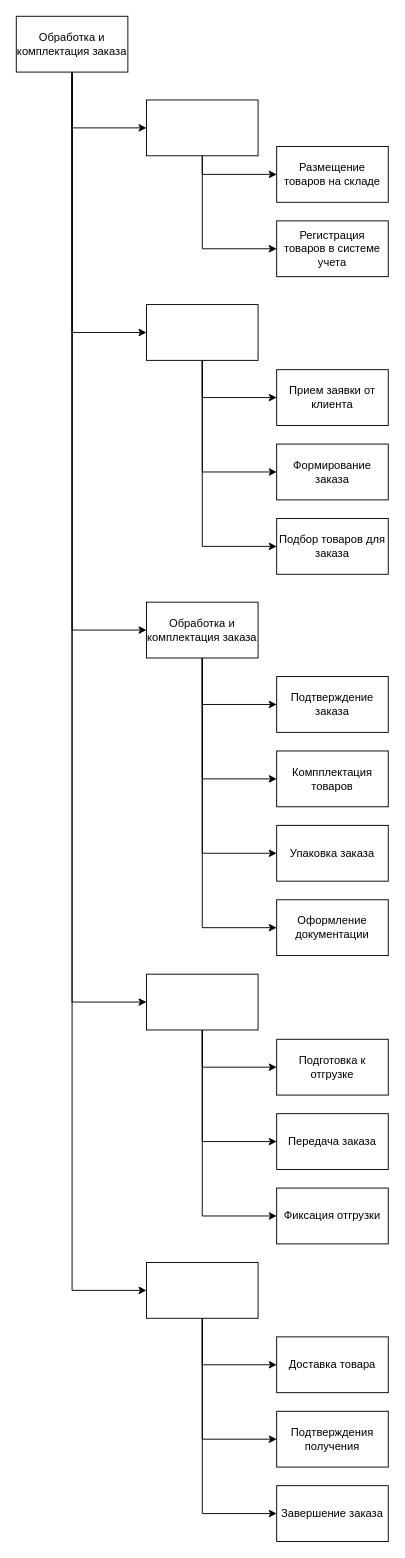
Image size: 405x1558. Some labels were removed from this diagram. The shapes that lost their labels are listed below. From the top down, each one's centre as x and y in pixels, then its label:
At (202,127): "Приемка товаров от поставщиков".
At (202,332): "Оформление заказа покупателя".
At (202,1001): "Отгрузка заказа".
At (202,1290): "Подтверждения получения заказа".
